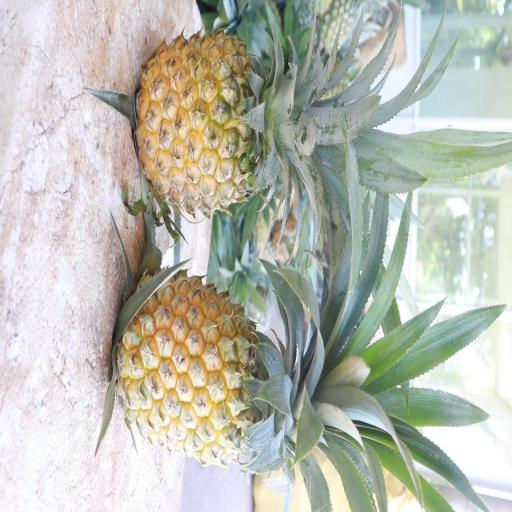Pineapple - v8 v1: (114, 268, 372, 469), (134, 29, 349, 223)
